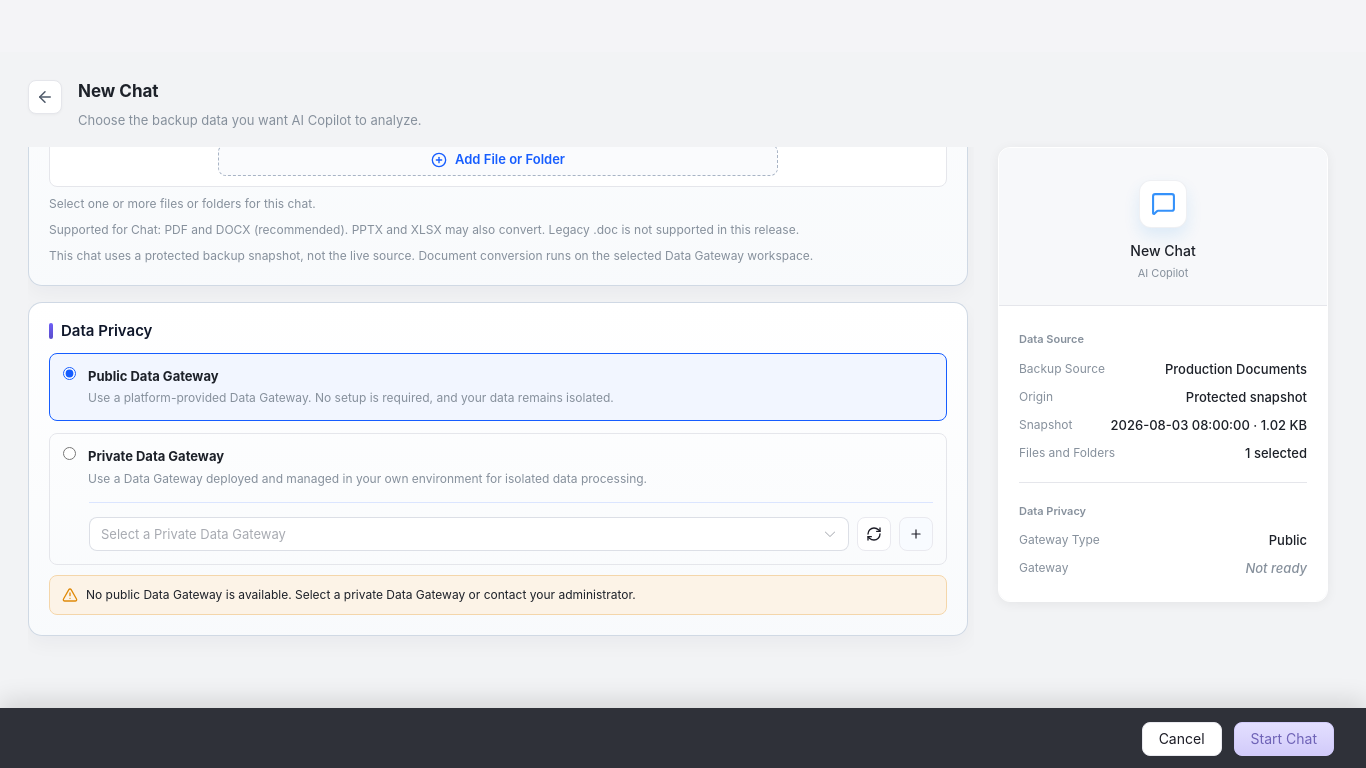
Test case: New Chat Public Data Gateway warning › switches to the Private Gateway blocker without retaining the Public warning
(page scrolled)
Expected: the message with class "new-chat-gateway-warning" is shown, left=49, top=575, right=947, bottom=615
Click the 2nd radio button at [70, 454], box left=63, top=447, right=76, bottom=460
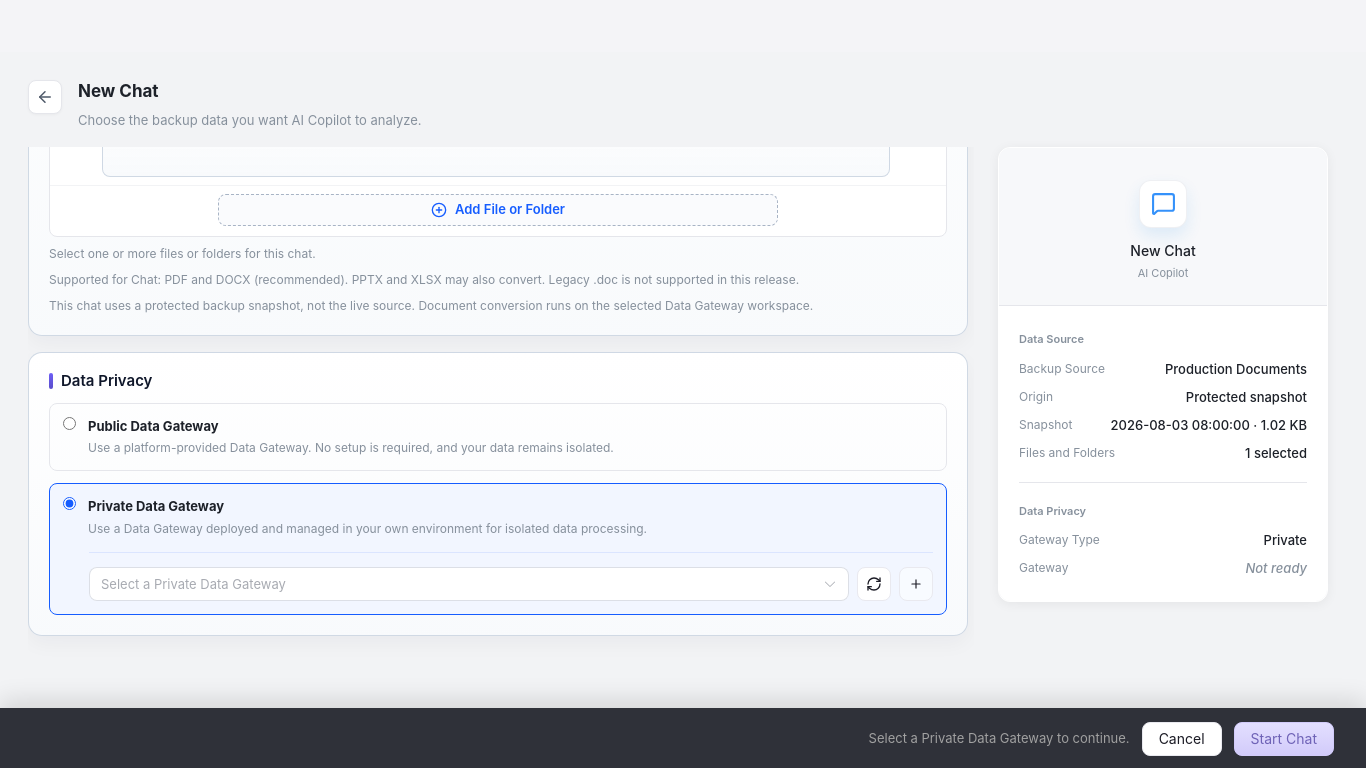
Expected: the button "Start Chat" is disabled, left=1234, top=722, right=1334, bottom=756
Expected: the text with class "form-submit-hint" reads "Select a Private Data Gateway to continue.", left=869, top=730, right=1130, bottom=746
